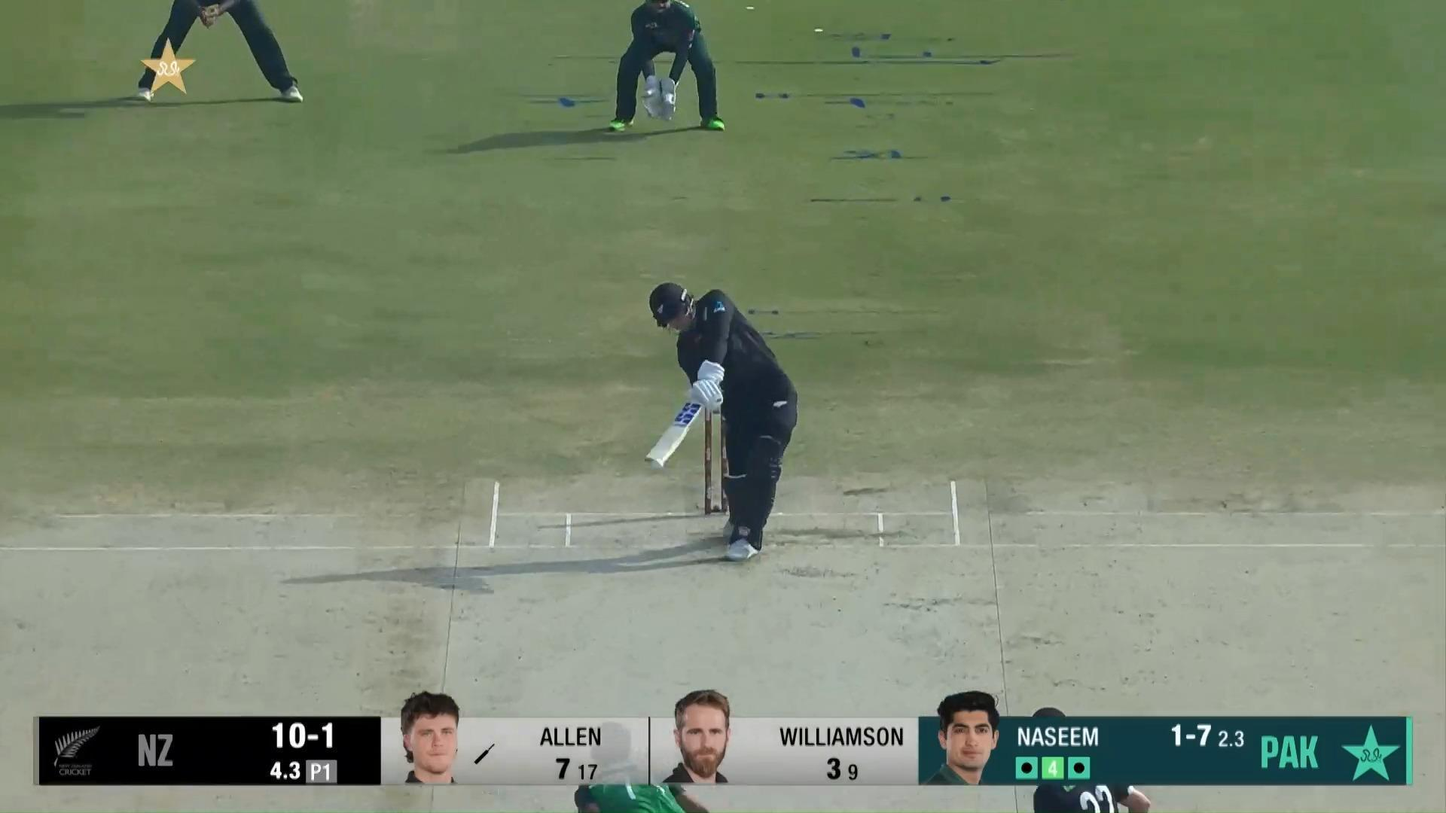BM 1: (643, 280, 800, 563)
BO: (570, 719, 713, 813)
